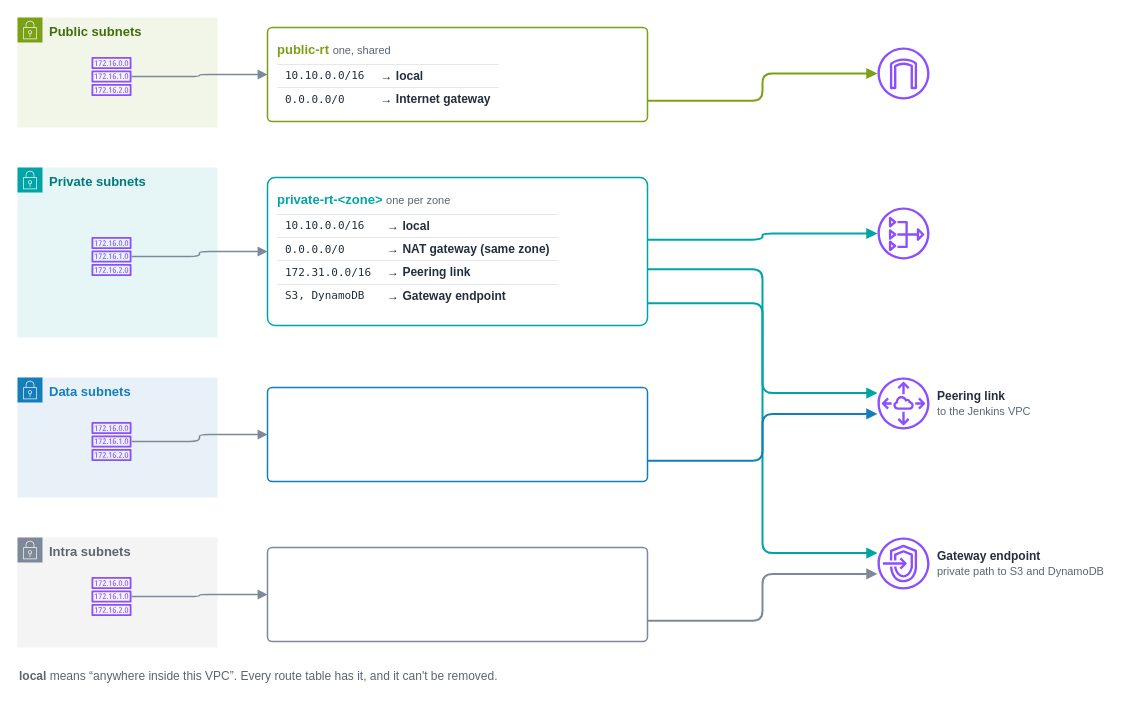
This 1122x705 diagram has some shape labels left out. The shapes that lost their labels are listed below. From the top down, each one's centre as x and y in pixels, then its label:
At [903,73]: "Internet gateway".
At [903,233]: "NAT gateway".
At [457,434]: "data-rt no internet, no S3 10.10.0.0/16 → local 172.31.0.0/16 → Peering link".
At [457,594]: "intra-rt no internet 10.10.0.0/16 → local S3, DynamoDB → Gateway endpoint".
